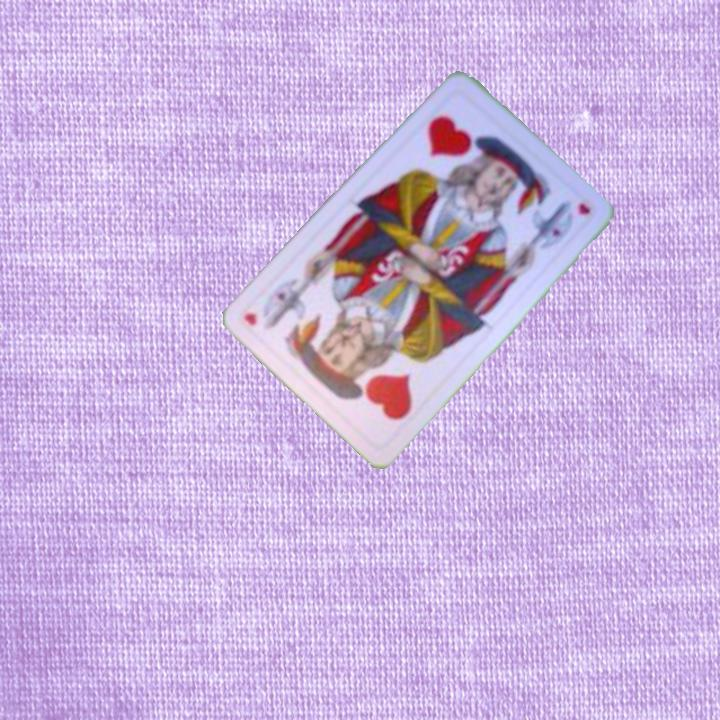h_j.png: (399, 84, 529, 213), (308, 321, 437, 450)
